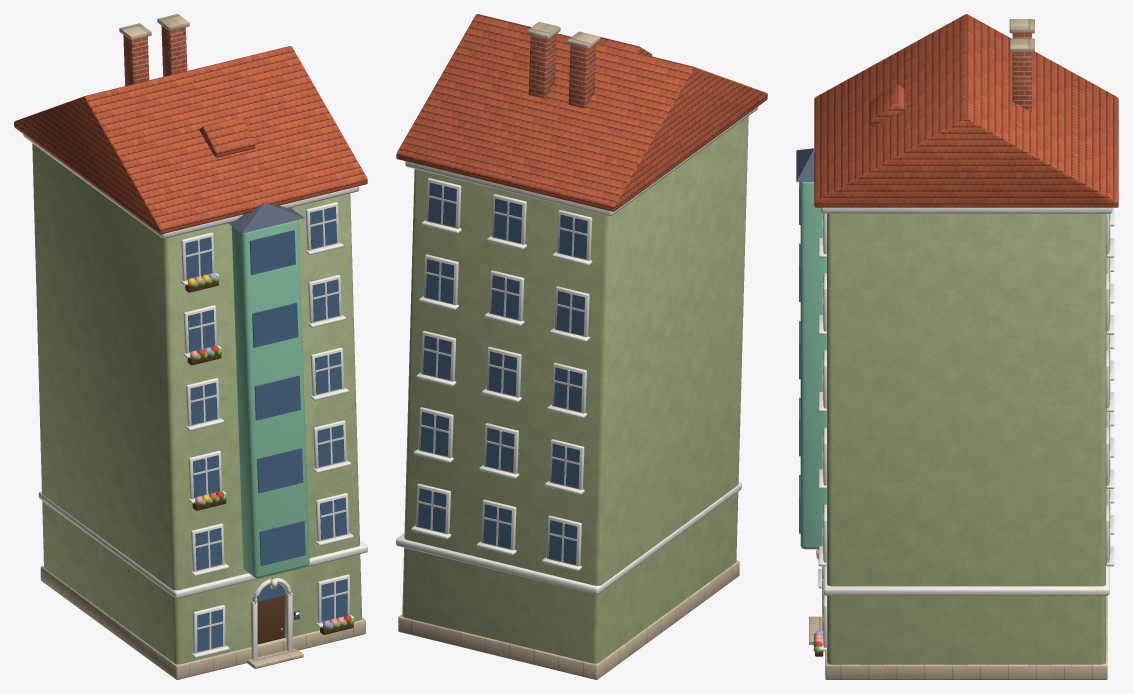
The model's file is house_j.gltf.
The picture shows the model from 3 angles, left to right: view 1: azimuth 30°, elevation 25°; view 2: azimuth 150°, elevation 25°; view 3: azimuth 270°, elevation 25°; orthographic projection. The views are drawn at different scales.
Visible parts, largest first — view 1: house_j_mesh, INT_door_house_j_0; view 2: house_j_mesh; view 3: house_j_mesh.
Part boxes in pixels (left/top/right/bottom): house_j_mesh: left=14, top=14, right=367, bottom=679; INT_door_house_j_0: left=257, top=595, right=284, bottom=644; house_j_mesh: left=396, top=14, right=767, bottom=679; house_j_mesh: left=796, top=14, right=1118, bottom=679.
Size of what is drawn, in the model's own units: 9.22 by 23.25 by 11.55.
21 materials, 4 textured.
